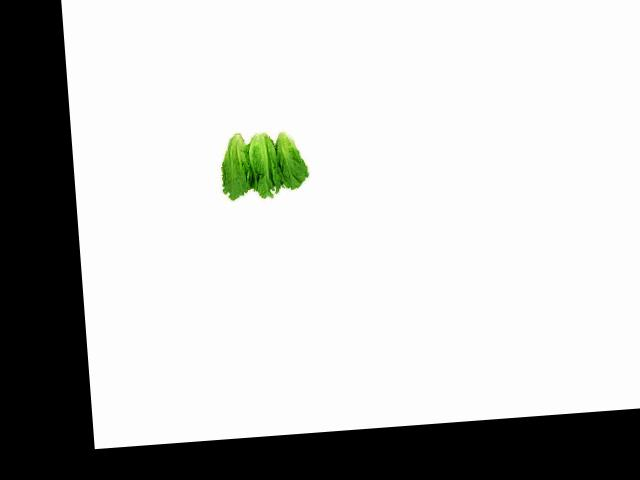lettuce: (269, 115, 310, 192)
